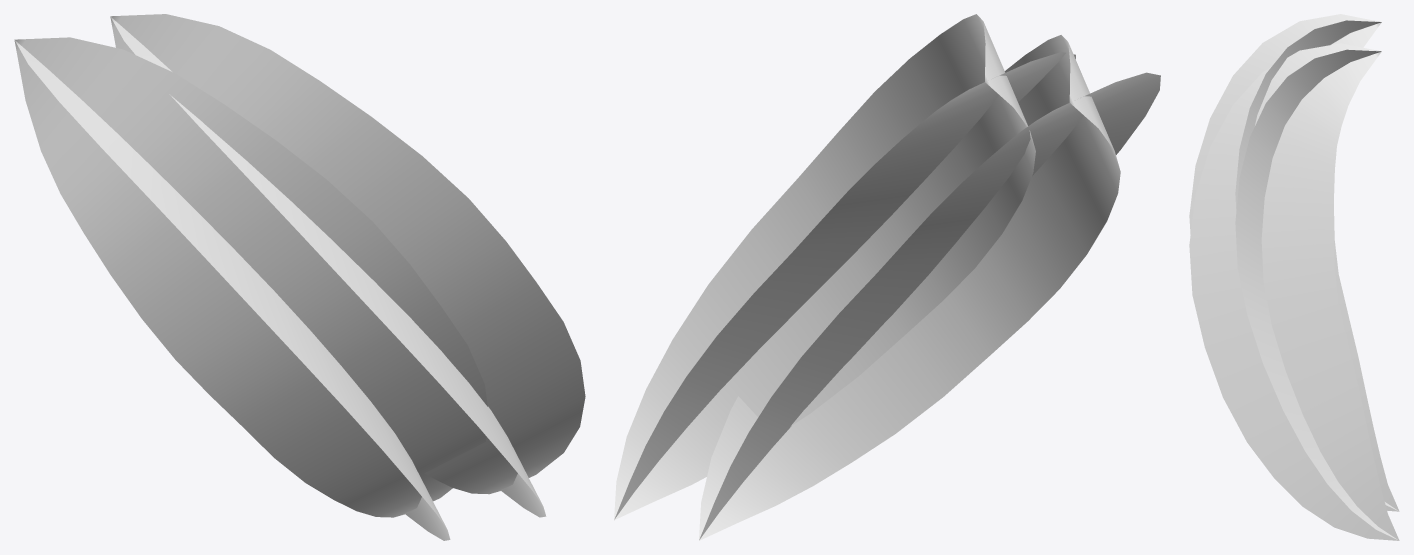
The model's file is particle_2009_skill_3.FBX.
The picture shows the model from 3 angles, left to right: view 1: azimuth 30°, elevation 25°; view 2: azimuth 150°, elevation 25°; view 3: azimuth 270°, elevation 25°; orthographic projection. The views are drawn at different scales.
Parts seen in each view (by area): view 1: 2009_skill3_L_trail; view 2: 2009_skill3_L_trail; view 3: 2009_skill3_L_trail.
Boxes of the visible parts, box(x1,y1,x2,y2) form: 2009_skill3_L_trail: box(14, 14, 585, 540); 2009_skill3_L_trail: box(614, 14, 1160, 540); 2009_skill3_L_trail: box(1189, 14, 1399, 540).
Bounding box in the file's own units: 513 × 539 × 273.
Materials: 1 (1 with a texture image).
